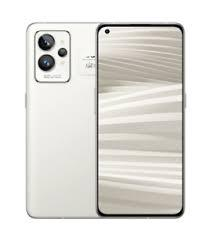Smartphone: (91, 21, 186, 217), (28, 23, 101, 221)
